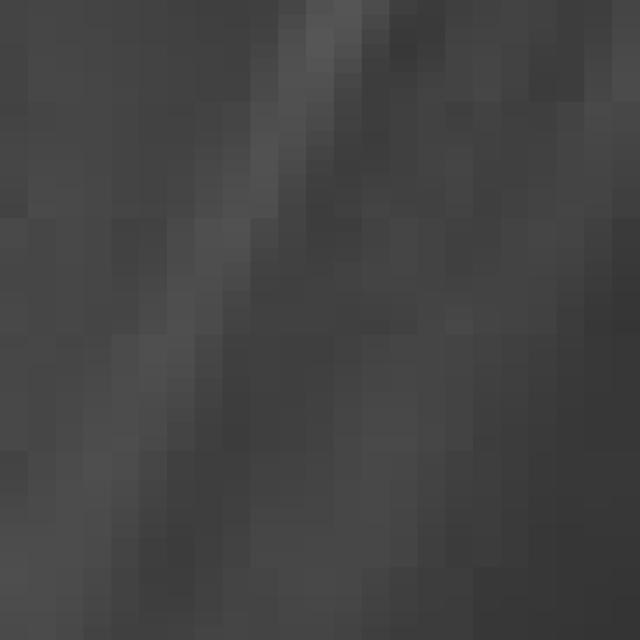fracture: (13, 19, 640, 640)
